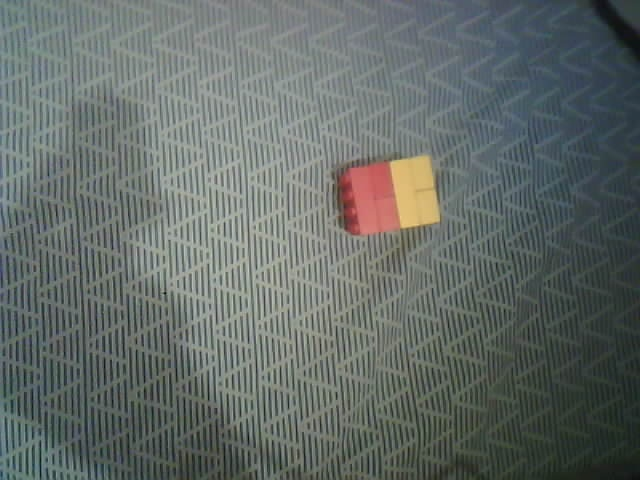lego: (337, 154, 442, 237)
